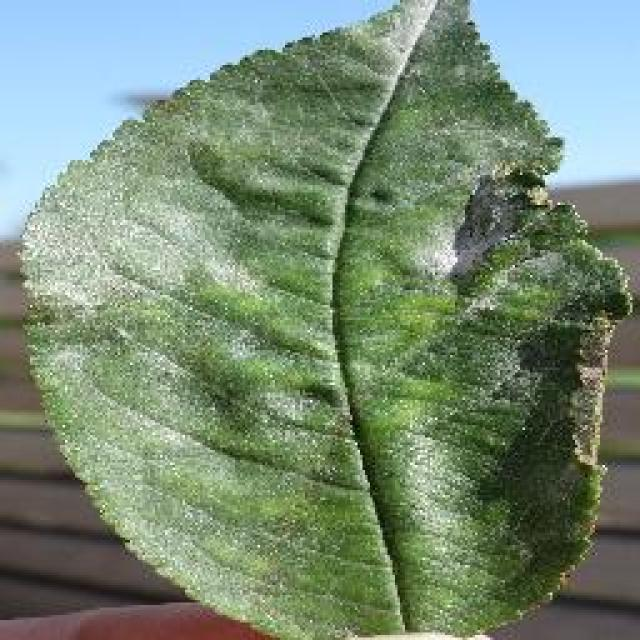Cherry___Powdery_mildew: (93, 102, 590, 571)
